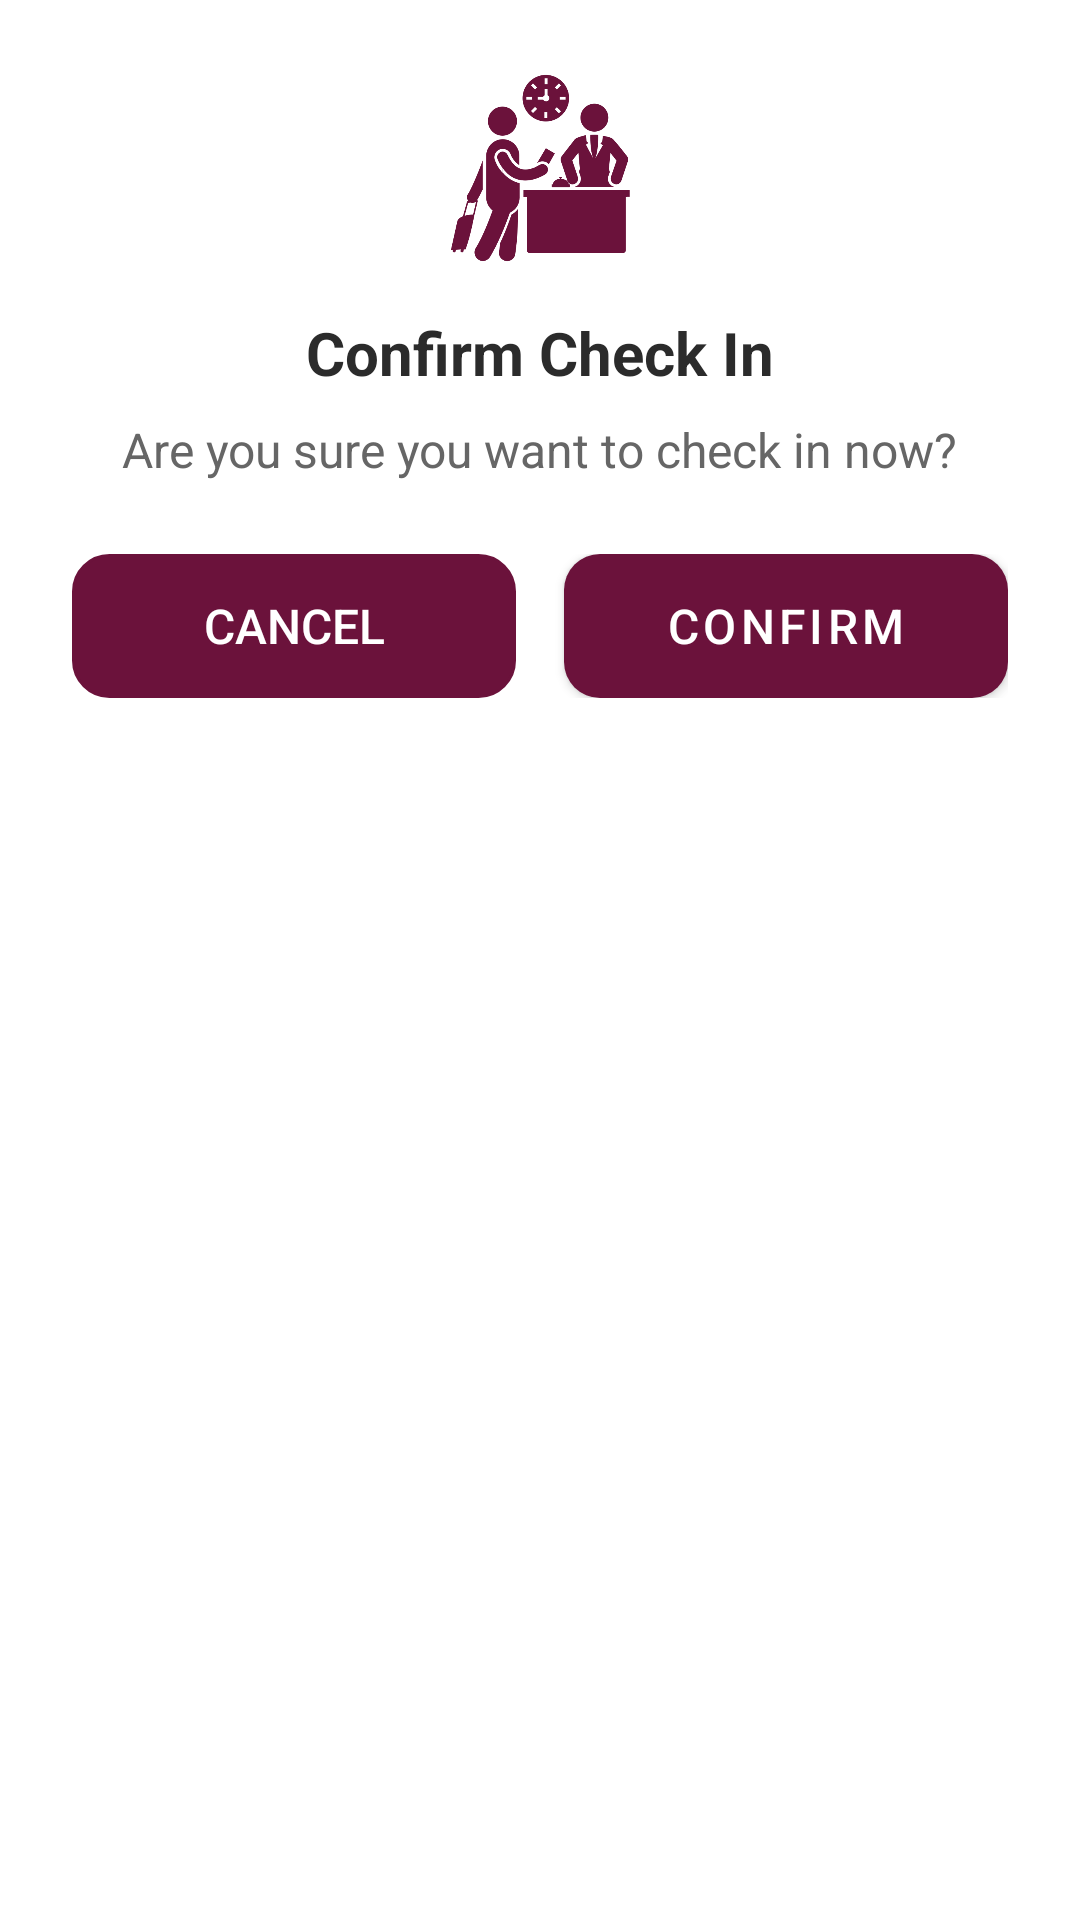

Where icons sit on this 1080*1920 app screen, as [left=x1, top=y1, right=x2, bottom=y2]:
Attendance icon: [left=451, top=75, right=630, bottom=261]
